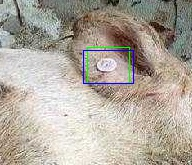text: (87, 47, 129, 83)
